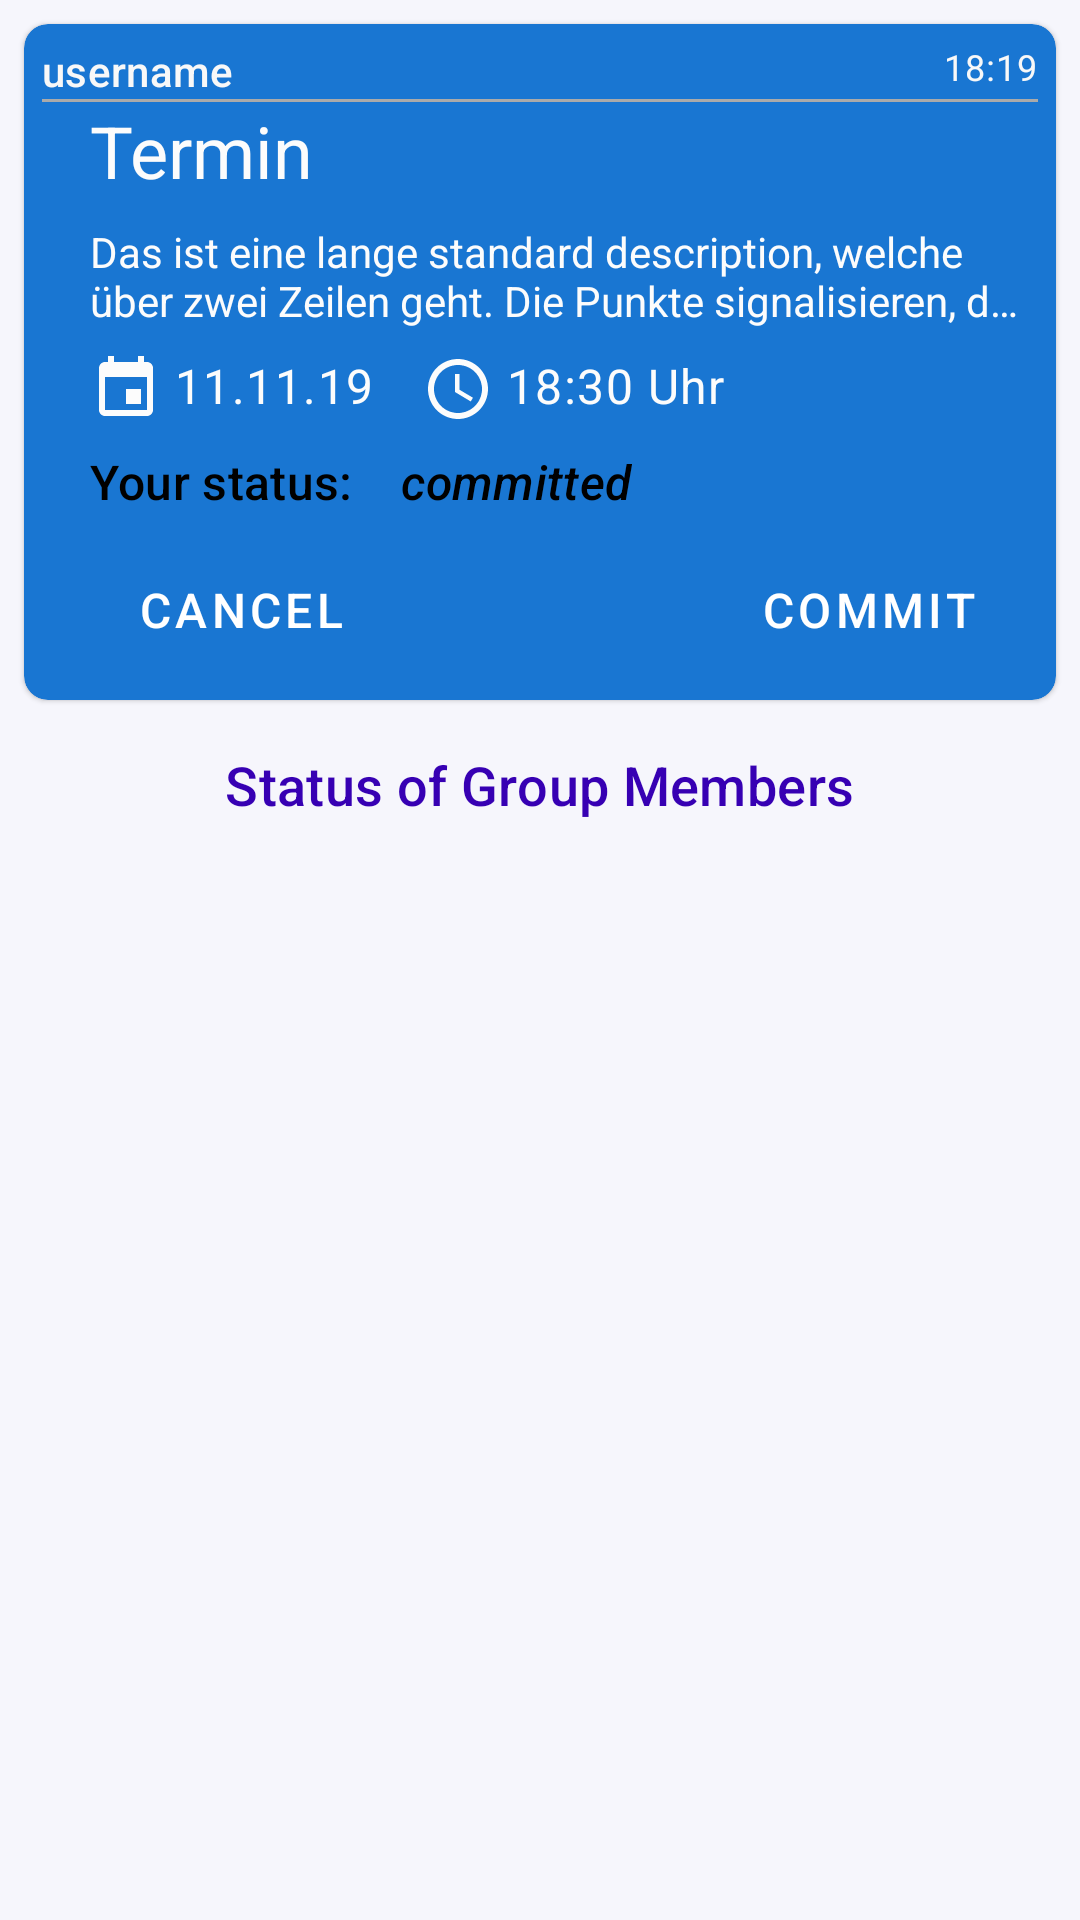

Screen size 1080w x 1920h. Icon name, then its box in pixels as (x1, y1, x2, y2):
access time: (428, 359, 488, 419)
event: (99, 356, 153, 416)
